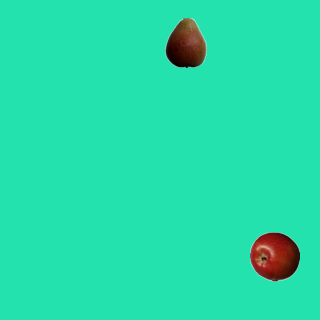Apple Braeburn: (249, 231, 299, 281)
Pear Forelle: (160, 17, 210, 67)
